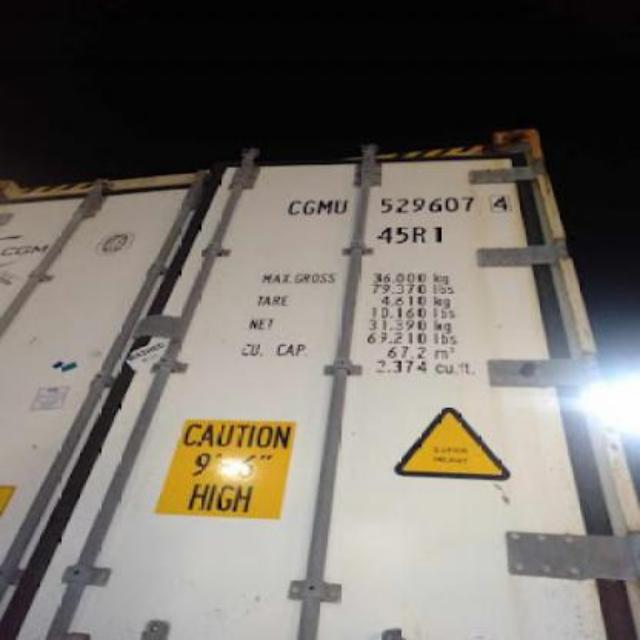0: (440, 190, 460, 213)
2: (394, 194, 408, 216)
4: (484, 190, 512, 214)
5: (376, 190, 394, 216)
6: (424, 188, 440, 216)
7: (458, 190, 478, 216)
9: (406, 190, 422, 218)
C: (288, 196, 302, 218)
G: (300, 194, 316, 216)
M: (316, 193, 332, 223)
U: (332, 193, 350, 217)
